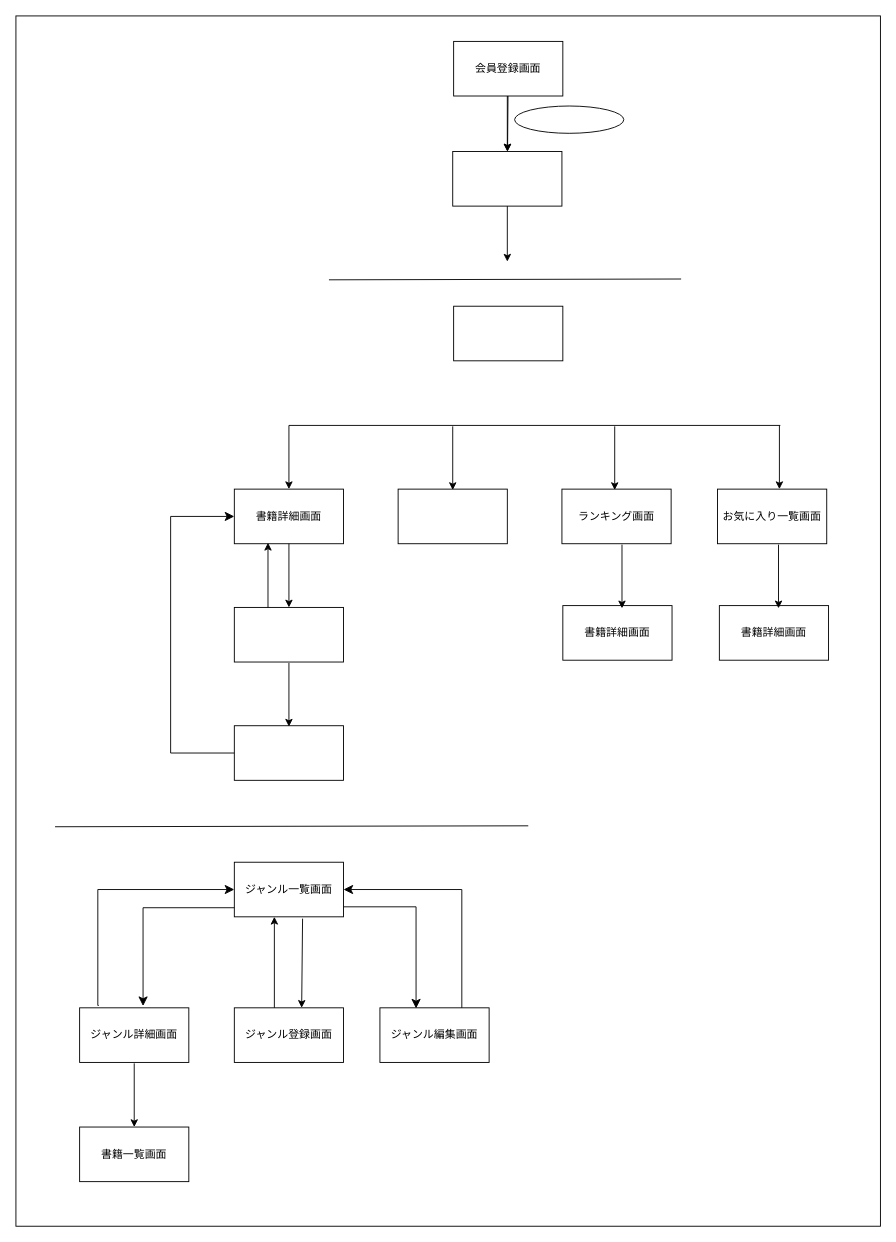
This 896x1242 diagram has some shape labels left out. The shapes that lost their labels are listed below. From the top down, each one's centre as x and y in pixels, then its label:
At pixel 569 119: "確認".
At pixel 507 178: "ログイン画面".
At pixel 508 333: "書籍一覧画面(TOP)".
At pixel 452 516: "書籍登録画面".
At pixel 288 634: "書籍編集画面".
At pixel 288 752: "レビュー編集画面".
